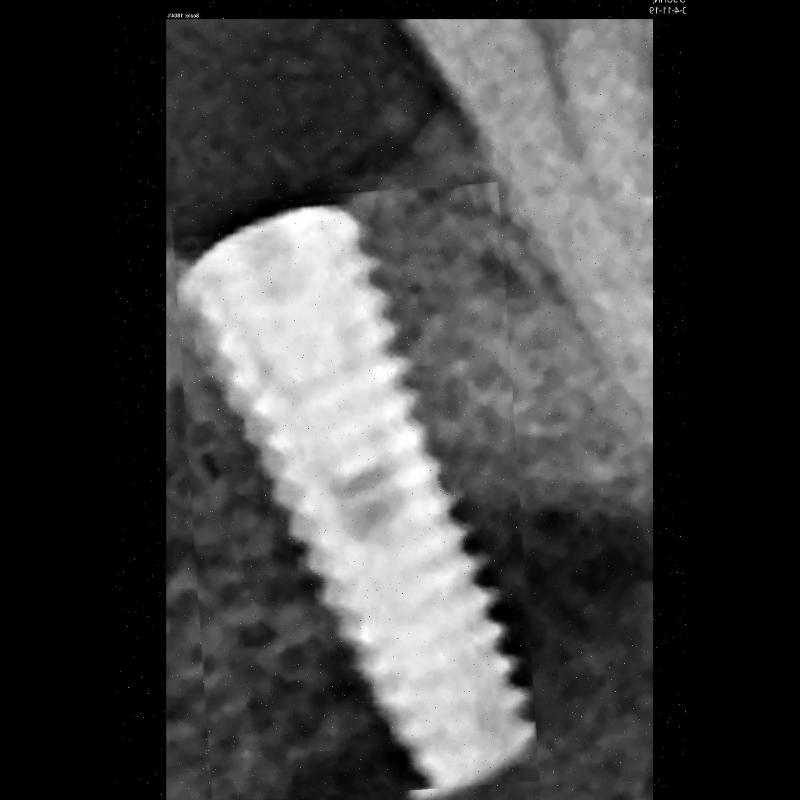osstem: (181, 189, 529, 800)
